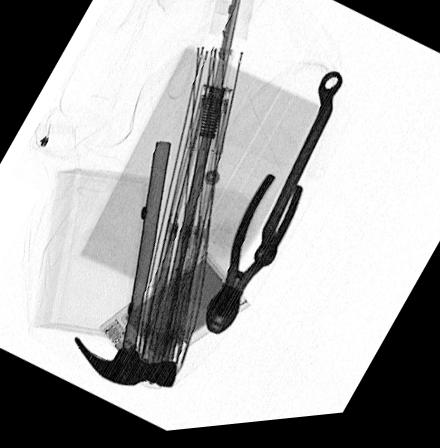Hammer: (70, 144, 177, 390)
Pliers: (202, 177, 303, 340)
Powerbank: (96, 253, 250, 386)
Wrench: (251, 77, 340, 274)
